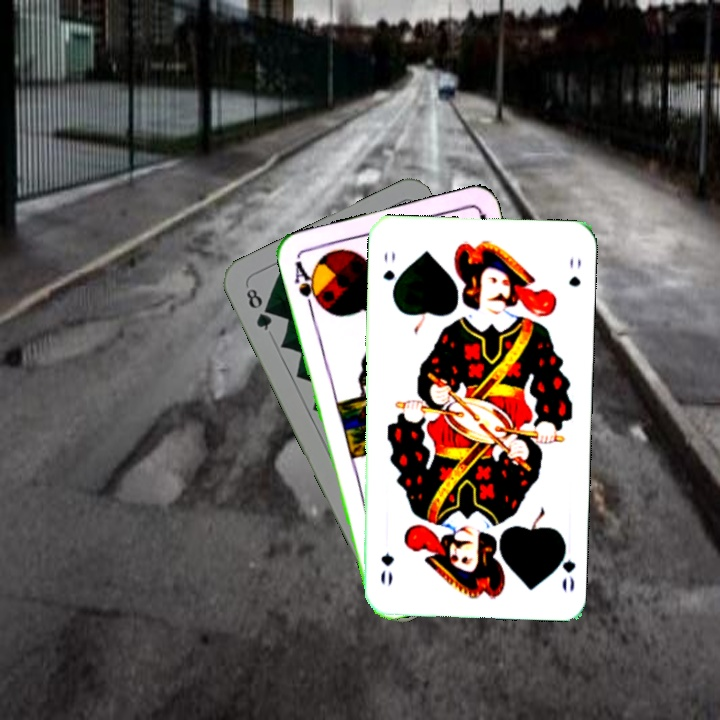G8: (242, 284, 275, 334)
GO: (551, 535, 578, 595), (379, 248, 401, 299)
SA: (290, 256, 325, 315)
